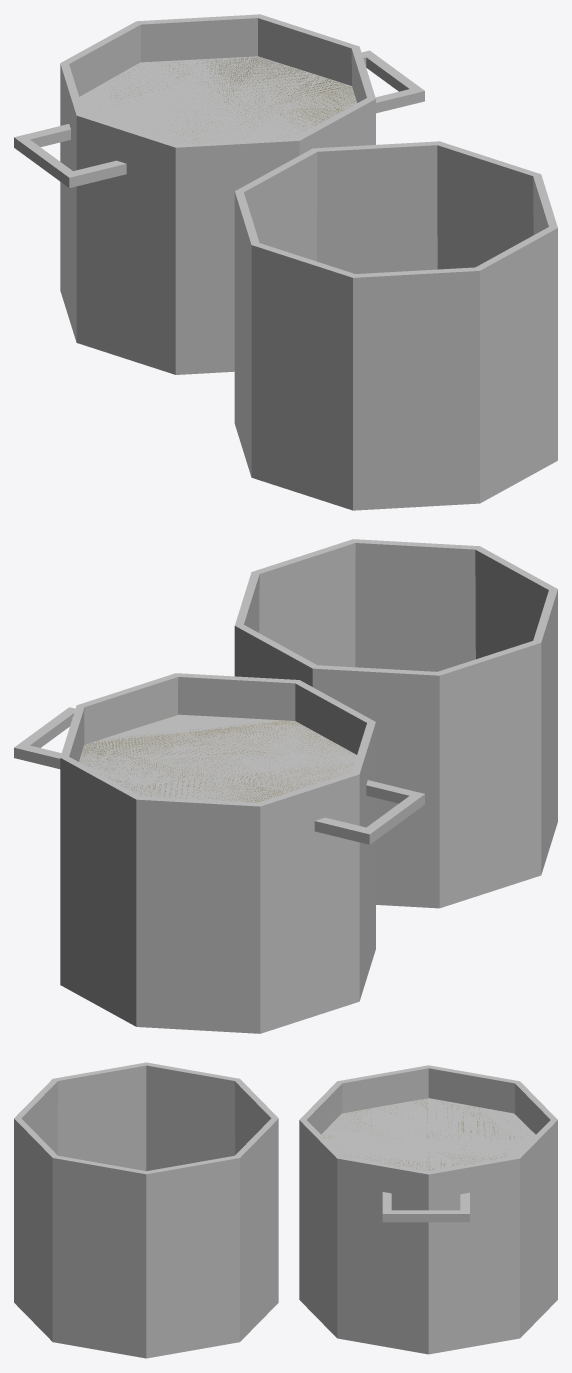
Rendered from PANCII BANYU UMEPPP.fbx.
The picture shows the model from 3 angles, top to bottom: view 1: azimuth 30°, elevation 25°; view 2: azimuth 150°, elevation 25°; view 3: azimuth 270°, elevation 25°; orthographic projection. The views are drawn at different scales.
Parts seen in each view (by area): view 1: Cylinder.002, Cylinder.001, Plane, Cube, Plane.001; view 2: Cylinder.001, Cylinder.002, Plane, Cube, Plane.001; view 3: Cylinder.002, Cylinder.001, Plane, Cube, Plane.001.
Boxes of the visible parts, x1=… form: Cylinder.002: x1=234, y1=141, x2=557, y2=510; Cylinder.001: x1=60, y1=14, x2=375, y2=374; Plane: x1=79, y1=56, x2=356, y2=143; Cube: x1=14, y1=50, x2=424, y2=187; Plane.001: x1=118, y1=57, x2=356, y2=141; Cylinder.001: x1=60, y1=673, x2=375, y2=1033; Cylinder.002: x1=234, y1=539, x2=557, y2=908; Plane: x1=79, y1=714, x2=356, y2=802; Cube: x1=14, y1=707, x2=424, y2=844; Plane.001: x1=81, y1=714, x2=355, y2=802; Cylinder.002: x1=14, y1=1062, x2=278, y2=1358; Cylinder.001: x1=299, y1=1065, x2=557, y2=1354; Plane: x1=321, y1=1098, x2=535, y2=1171; Cube: x1=382, y1=1192, x2=469, y2=1222; Plane.001: x1=323, y1=1098, x2=521, y2=1170.
Bounding box in the file's own units: 280 × 175 × 469.
